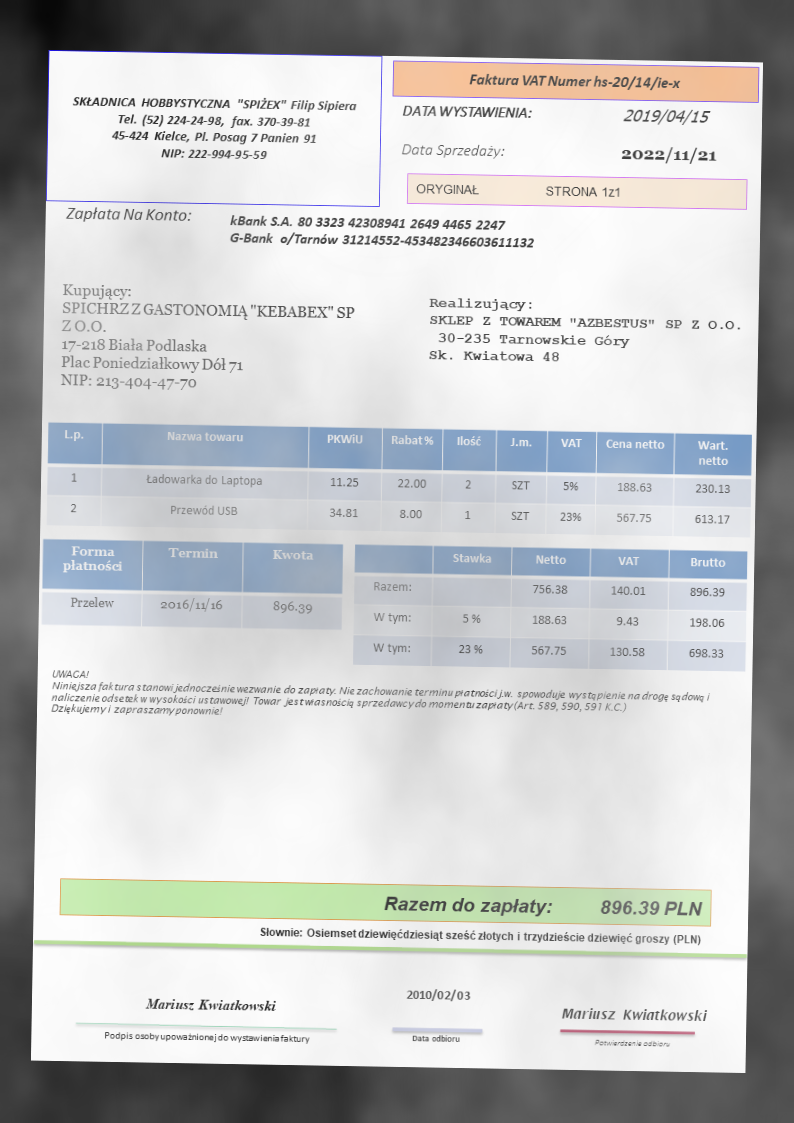Table: (44, 420, 755, 541), (351, 541, 747, 672), (40, 537, 343, 631)
TextBox: (48, 665, 715, 728), (55, 278, 360, 395), (424, 293, 742, 370), (70, 92, 358, 163), (257, 921, 706, 950), (226, 211, 537, 250), (381, 889, 706, 922), (466, 70, 681, 93), (413, 179, 624, 201), (101, 1026, 312, 1048), (559, 1004, 712, 1027), (142, 992, 279, 1015), (400, 100, 534, 121), (61, 203, 194, 224), (399, 139, 506, 161), (617, 145, 717, 168), (620, 105, 712, 126), (592, 1034, 672, 1053), (403, 985, 471, 1005), (408, 1031, 463, 1045)
